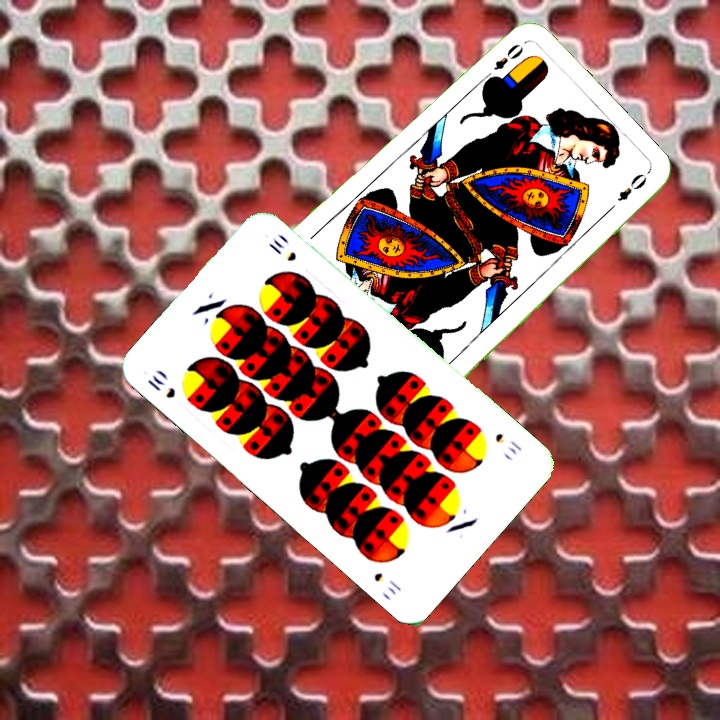EO: (478, 39, 526, 84)
S10: (143, 371, 178, 401), (491, 428, 525, 458)
